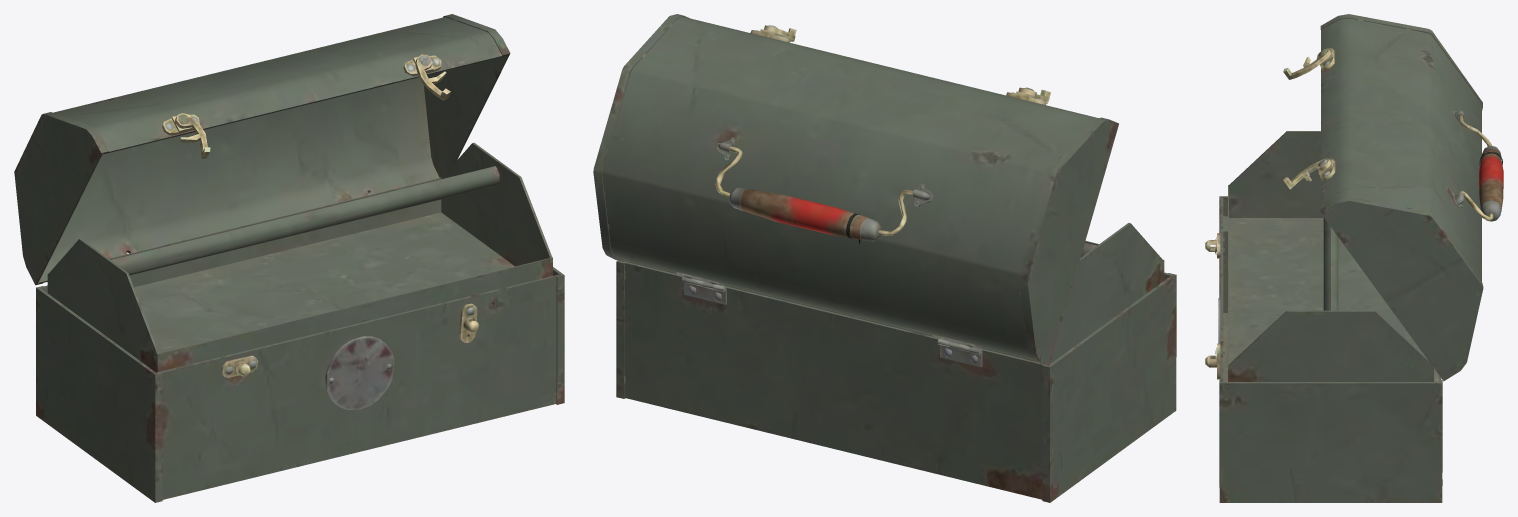
File: metal_toolbox_lod1.glb
3 views of the same model, side by side, from view 1: azimuth 30°, elevation 25°; view 2: azimuth 150°, elevation 25°; view 3: azimuth 270°, elevation 25° (orthographic). The views are drawn at different scales.
Parts seen in each view (by area): view 1: metal_toolbox; view 2: metal_toolbox; view 3: metal_toolbox.
Boxes of the visible parts, box(x1,y1,x2,y2) form: metal_toolbox: box(14, 14, 564, 502); metal_toolbox: box(593, 14, 1176, 502); metal_toolbox: box(1205, 14, 1503, 502).
Bounding box in the file's own units: 0.4 × 0.3047 × 0.2702.
Materials: 1 (1 with a texture image).
